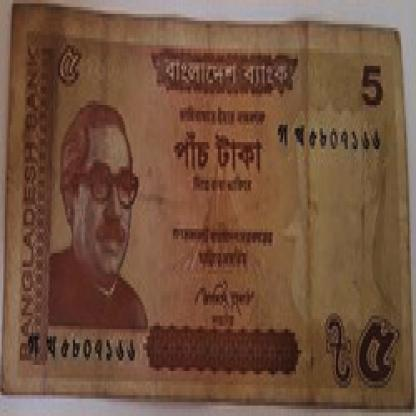Five Taka: (354, 312, 400, 395), (50, 24, 83, 94), (353, 56, 391, 114)
